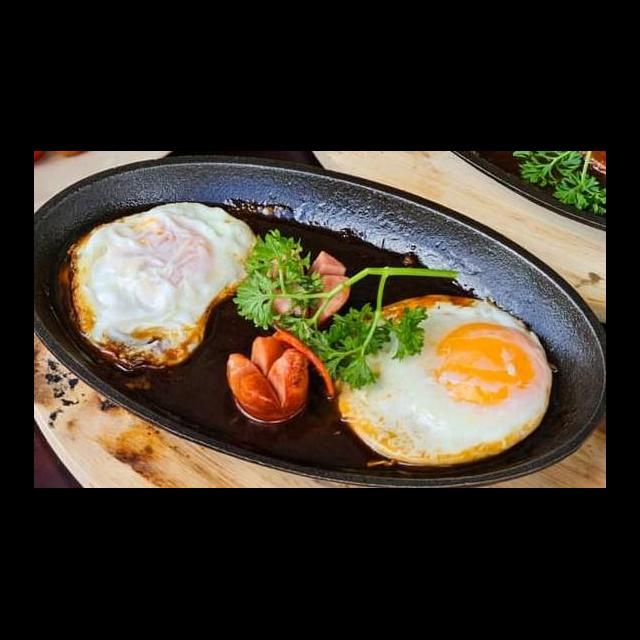trung: (321, 290, 557, 472), (61, 198, 268, 374)
